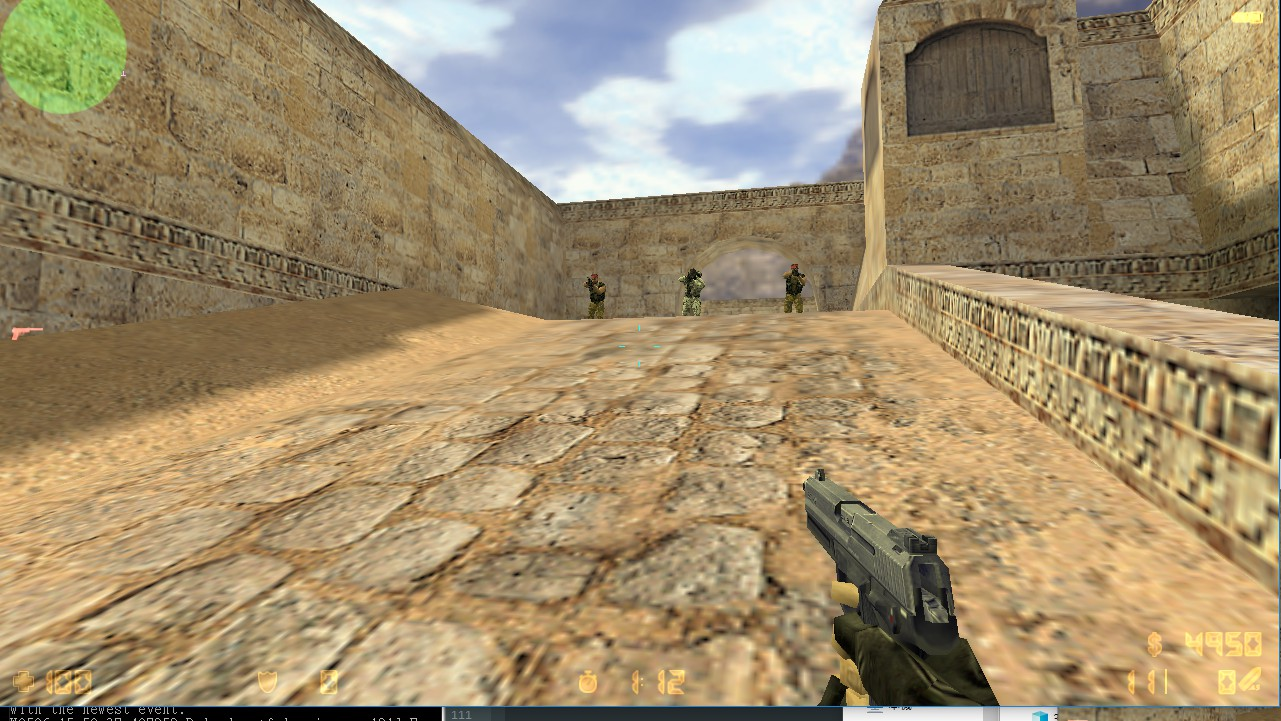person: (778, 254, 807, 312), (675, 264, 706, 315), (580, 268, 608, 318)
